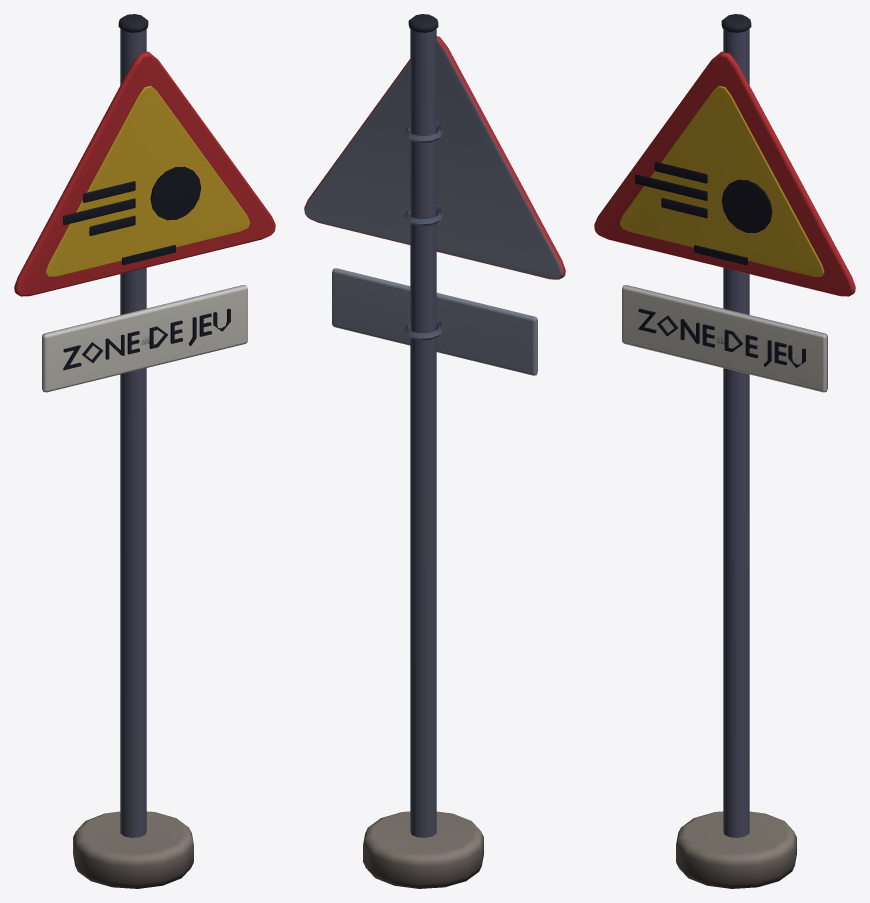
File: panneau_avertissement.glb
The picture shows the model from 3 angles, left to right: view 1: azimuth 30°, elevation 25°; view 2: azimuth 150°, elevation 25°; view 3: azimuth 330°, elevation 25°; orthographic projection.
Parts seen in each view (by area): view 1: panneau_avertissement; view 2: panneau_avertissement; view 3: panneau_avertissement.
Part boxes in pixels (left/top/right/bottom): panneau_avertissement: left=14, top=14, right=275, bottom=888; panneau_avertissement: left=304, top=14, right=565, bottom=888; panneau_avertissement: left=594, top=14, right=855, bottom=888.
Bounding box in the file's own units: 0.7847 × 2.45 × 0.32.
